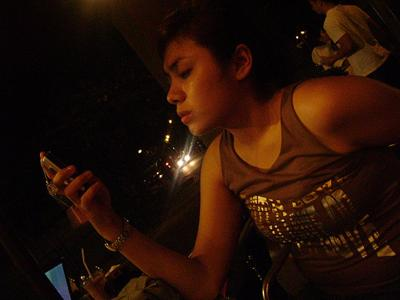person: (38, 4, 400, 300)
